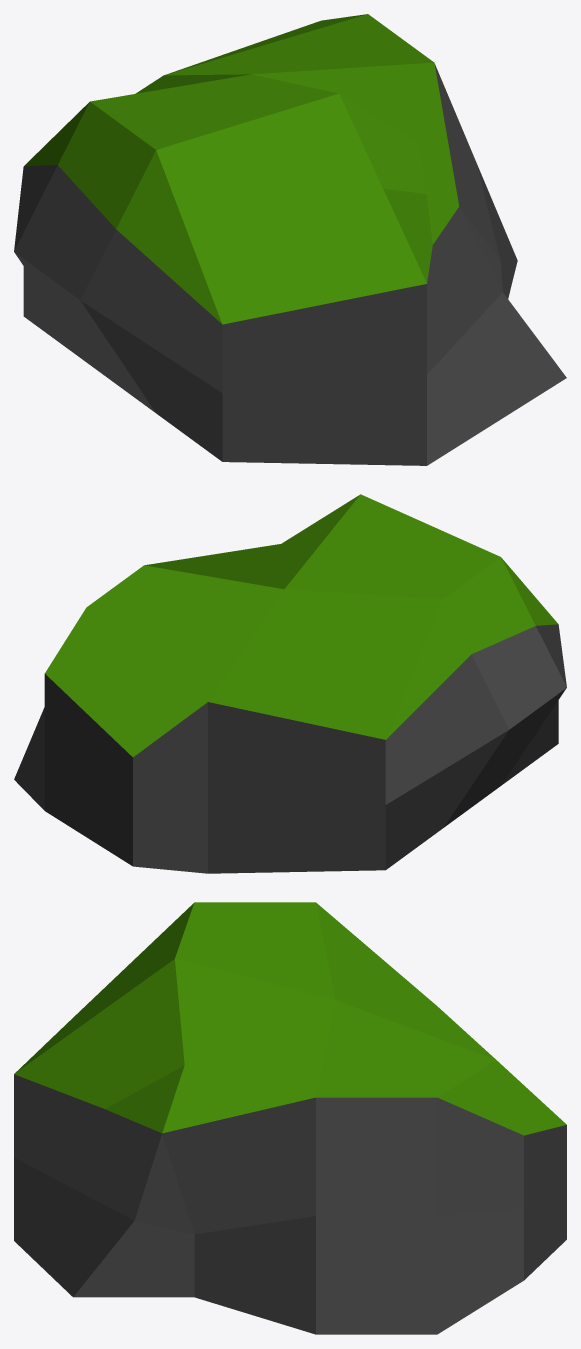
Rendered from rock.glb.
3 views of the same model, one above another, from view 1: azimuth 30°, elevation 25°; view 2: azimuth 150°, elevation 25°; view 3: azimuth 270°, elevation 25° (orthographic). The views are drawn at different scales.
Visible parts, largest first — view 1: Cube; view 2: Cube; view 3: Cube.
Part boxes in pixels (box(x1,y1,x2,y2)): Cube: box(14, 14, 566, 465); Cube: box(14, 494, 566, 873); Cube: box(14, 902, 566, 1334).
Bounding box in the file's own units: 6.99 × 4.08 × 7.26.
